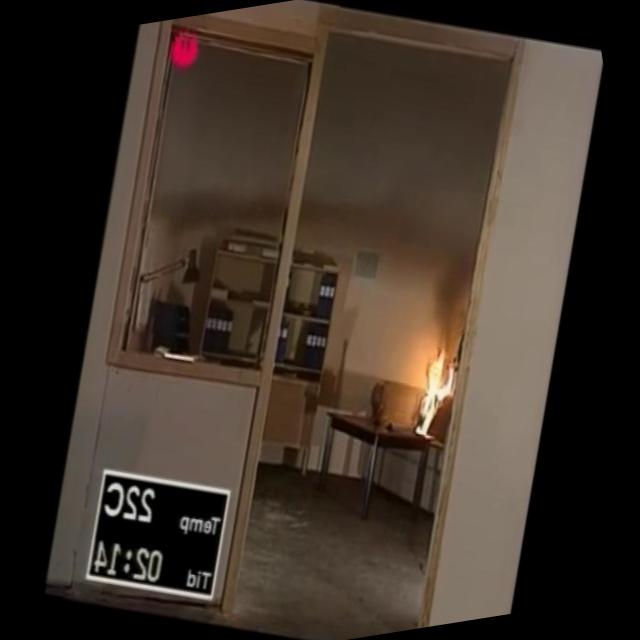fire: (372, 317, 482, 450)
